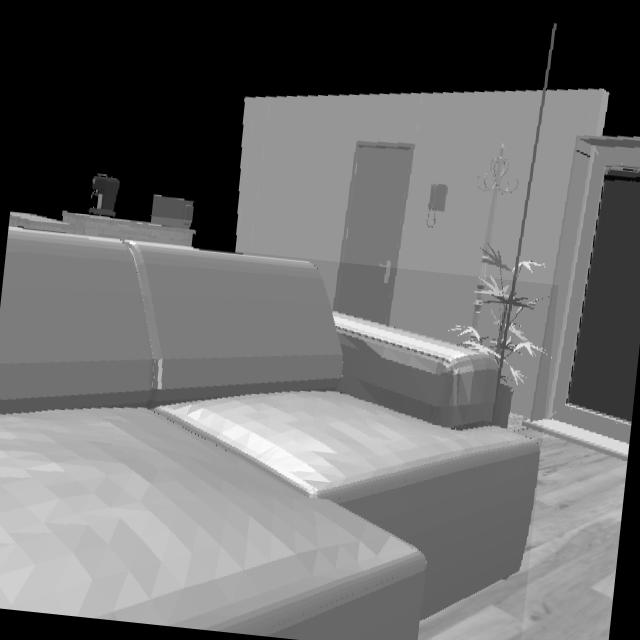sofa: (0, 227, 539, 640)
table: (8, 210, 194, 247)
